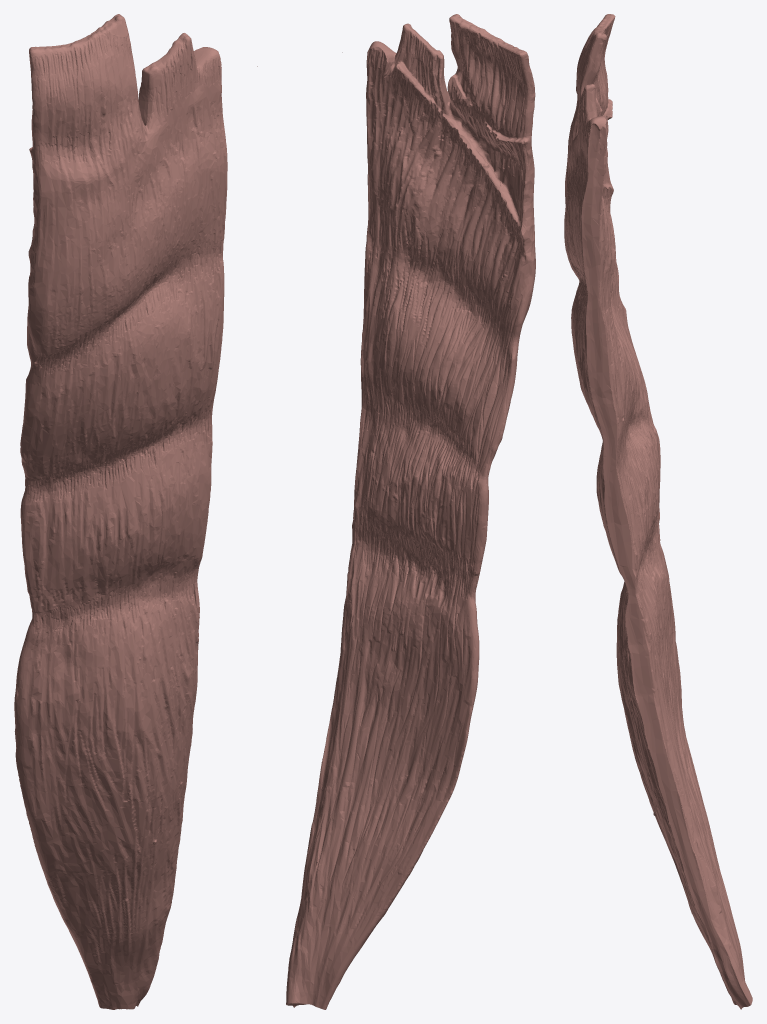
File: FMA13378.glb
3 views of the same model, side by side, from view 1: azimuth 30°, elevation 25°; view 2: azimuth 150°, elevation 25°; view 3: azimuth 270°, elevation 25° (orthographic). The views are drawn at different scales.
Visible parts, largest first — view 1: B.FMA13378; view 2: B.FMA13378; view 3: B.FMA13378.
Part boxes in pixels (x1=…): B.FMA13378: x1=14, y1=14, x2=257, y2=1009; B.FMA13378: x1=286, y1=14, x2=535, y2=1009; B.FMA13378: x1=564, y1=14, x2=752, y2=1009.
Size of the model in its own units: 0.0851 by 0.3954 by 0.0723.
